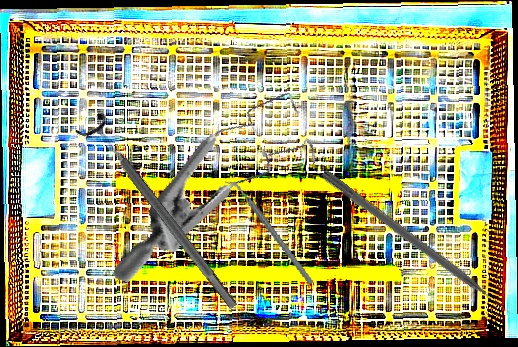Chopper: (224, 165, 315, 299)
Fixation Ring: (74, 109, 248, 319)
Pusher: (318, 168, 516, 321)
Speculum: (112, 59, 332, 325)
